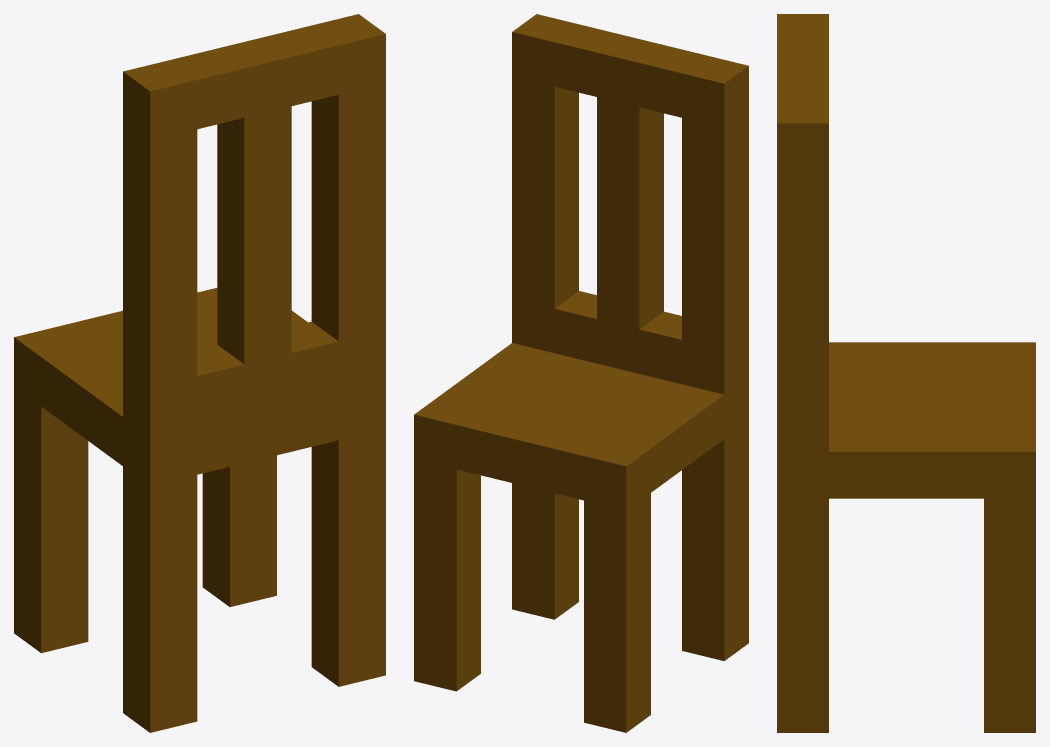
The model's file is chair.gltf.
The picture shows the model from 3 angles, left to right: view 1: azimuth 30°, elevation 25°; view 2: azimuth 150°, elevation 25°; view 3: azimuth 270°, elevation 25°; orthographic projection. The views are drawn at different scales.
Parts seen in each view (by area): view 1: mesh (×10); view 2: mesh (×10); view 3: mesh (×6).
Boxes of the visible parts, x1,y1,x2,y2 form: mesh (×10): (14,14,385,732); mesh (×10): (414,14,748,732); mesh (×6): (777,14,1035,732).
Bounding box in the file's own units: 1.25 × 3.25 × 1.25.
Materials: 1 (1 with a texture image).
